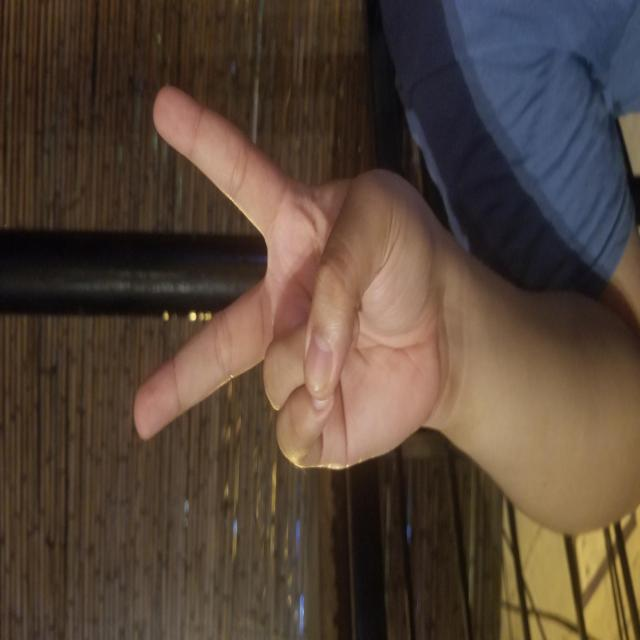V: (167, 133, 556, 436)
